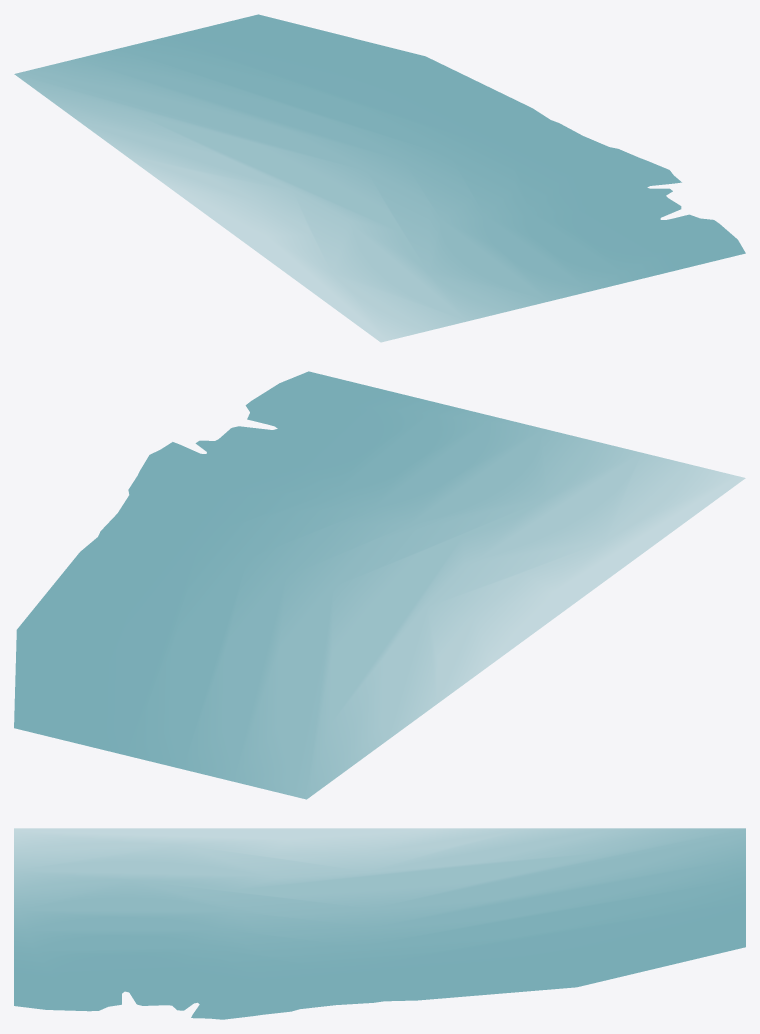
3 views of the same model, one above another, from view 1: azimuth 30°, elevation 25°; view 2: azimuth 150°, elevation 25°; view 3: azimuth 270°, elevation 25° (orthographic). The views are drawn at different scales.
Parts seen in each view (by area): view 1: city; view 2: city; view 3: city.
Part boxes in pixels (x1,y1,x2,y2): city: (14, 14, 745, 342); city: (14, 371, 745, 799); city: (14, 828, 745, 1019).
Bounding box in the file's own units: 310 × 0 × 500.
